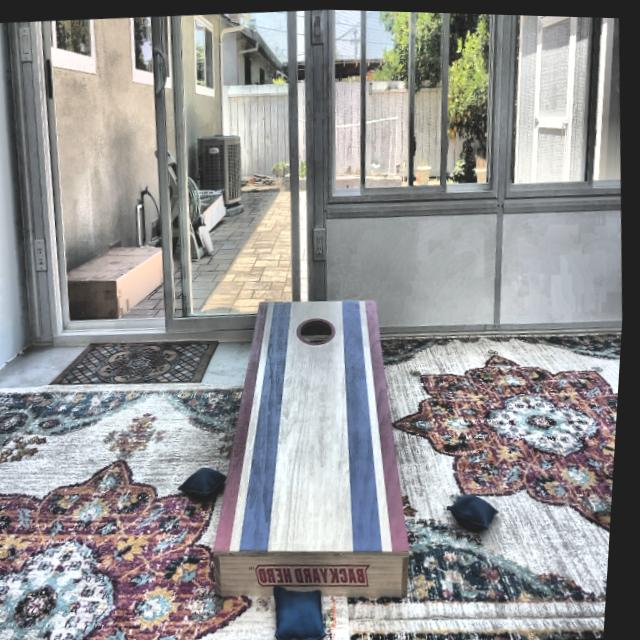blue-bean-bag: (277, 582, 335, 640), (450, 488, 504, 528), (181, 462, 232, 496)
board: (241, 292, 400, 554)
hole: (297, 311, 340, 344)
